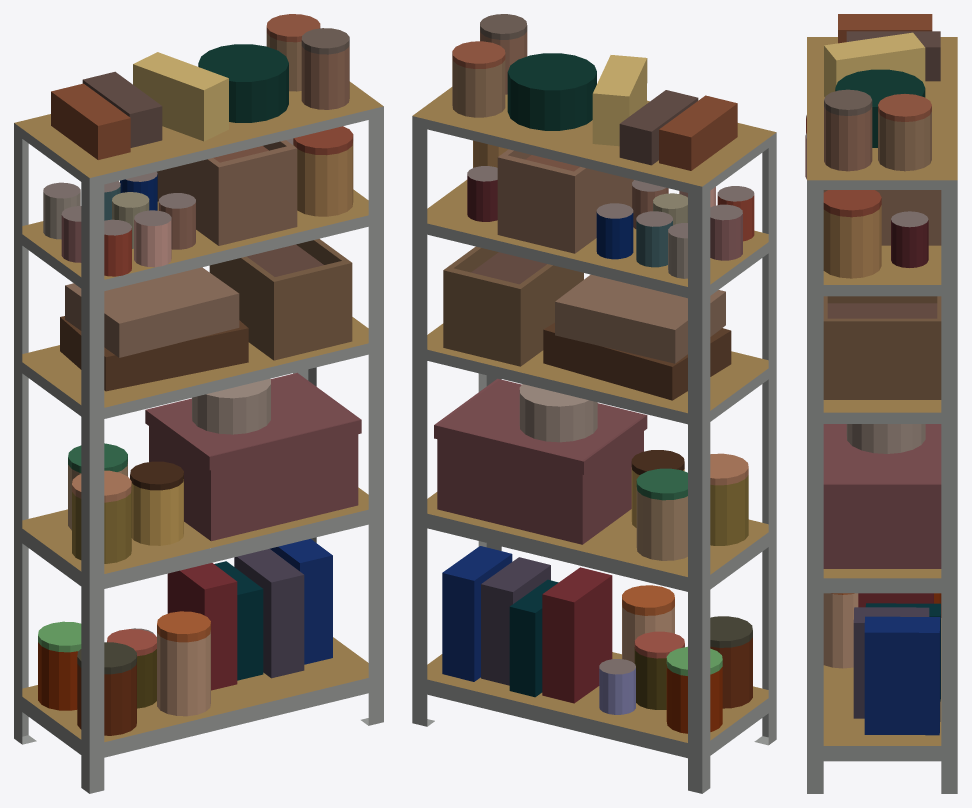
The model's file is mathylla2.glb.
The picture shows the model from 3 angles, left to right: view 1: azimuth 30°, elevation 25°; view 2: azimuth 150°, elevation 25°; view 3: azimuth 270°, elevation 25°; orthographic projection.
Parts seen in each view (by area): view 1: Cube, Cube.007, Cube.009, Cube.008, Cube.005, Cube.006, Cube.010, Cube.003, Cylinder.006, Cube.001, Cylinder.021, Cylinder.004 (+20 smaller); view 2: Cube, Cube.007, Cube.009, Cube.008, Cube.005, Cube.001, Cylinder.021, Cube.006, Cube.004, Cylinder, Cube.003, Cube.012 (+22 smaller); view 3: Cube, Cube.007, Cube.009, Cube.004, Cylinder.004, Cylinder.010, Cube.010, Cylinder.009, Cylinder.006, Cube.008, Cylinder.021, Cylinder.022 (+6 smaller).
Boxes of the visible parts, left/top/right/bottom form: Cube: left=14, top=81, right=383, bottom=793; Cube.007: left=145, top=372, right=361, bottom=541; Cube.009: left=209, top=238, right=352, bottom=360; Cube.008: left=157, top=140, right=297, bottom=245; Cube.005: left=65, top=267, right=239, bottom=357; Cube.006: left=60, top=316, right=248, bottom=391; Cube.010: left=133, top=52, right=228, bottom=141; Cube.003: left=234, top=549, right=304, bottom=678; Cylinder.006: left=157, top=611, right=210, bottom=716; Cube.001: left=167, top=563, right=237, bottom=690; Cylinder.021: left=198, top=44, right=288, bottom=122; Cylinder.004: left=293, top=126, right=353, bottom=216; Cube: left=412, top=87, right=776, bottom=793; Cube.007: left=434, top=378, right=647, bottom=544; Cube.009: left=443, top=246, right=583, bottom=366; Cube.008: left=497, top=149, right=633, bottom=253; Cube.005: left=555, top=274, right=725, bottom=363; Cube.001: left=542, top=567, right=612, bottom=703; Cylinder.021: left=507, top=53, right=596, bottom=130; Cube.006: left=543, top=322, right=731, bottom=400; Cube.004: left=442, top=546, right=512, bottom=681; Cylinder: left=636, top=468, right=687, bottom=560; Cube.003: left=481, top=557, right=550, bottom=685; Cube.012: left=659, top=95, right=737, bottom=170; Cube: left=807, top=37, right=957, bottom=793; Cube.007: left=823, top=424, right=941, bottom=568; Cube.009: left=823, top=296, right=941, bottom=399; Cube.004: left=864, top=616, right=940, bottom=735; Cylinder.004: left=823, top=190, right=881, bottom=278; Cylinder.010: left=878, top=94, right=931, bottom=171; Cube.010: left=824, top=32, right=925, bottom=97; Cylinder.009: left=824, top=89, right=872, bottom=171; Cylinder.006: left=823, top=593, right=858, bottom=668; Cube.008: left=823, top=190, right=941, bottom=245; Cylinder.021: left=835, top=69, right=925, bottom=147; Cylinder.022: left=846, top=424, right=925, bottom=453.
Size of the model in its own units: 0.9 by 1.98 by 0.4048.
